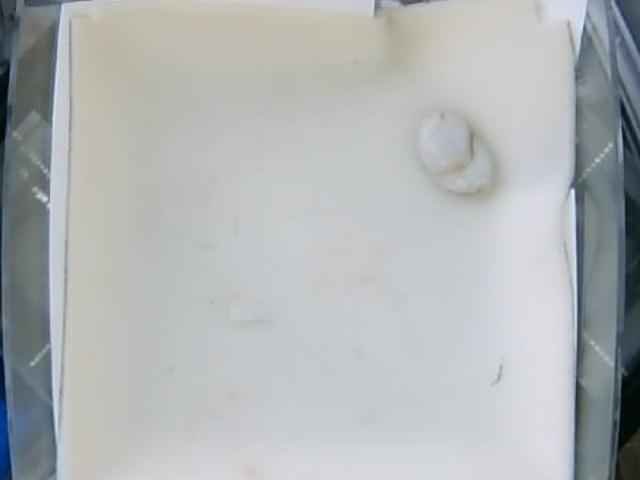Pebble: (418, 110, 497, 194)
